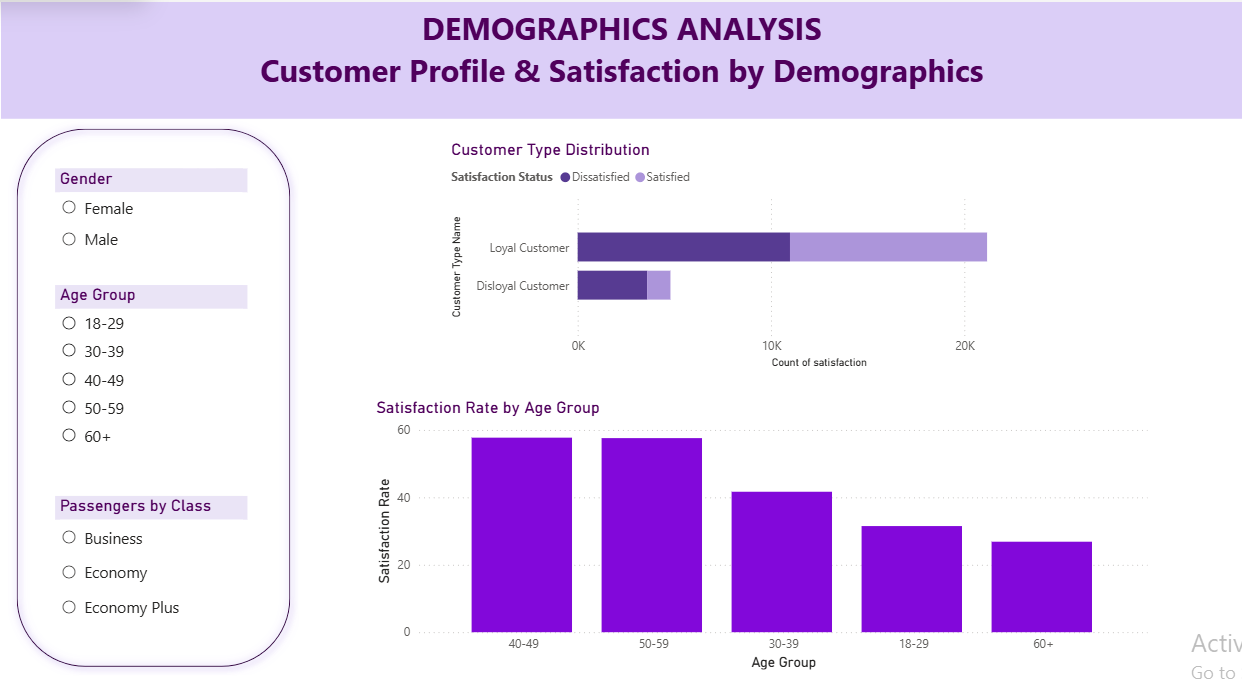

The dashboard page shown, as its layout file describes it:
{"tool":"powerbi","page":{"name":"Page 2","canvas":[1280,720],"ordinal":1},"visuals":[{"type":"shape","box":[6.5,121,300,572.6],"z":0},{"type":"clusteredColumnChart","fields":{"Category":["cleaned_airline_data.Age Group"],"Y":["cleaned_airline_data.Satisfaction Rate"]},"box":[382.3,408.1,804.8,285.5],"z":3000},{"type":"barChart","title":"Customer Type Distribution","fields":{"Category":["cleaned_airline_data.Customer Type Name"],"Series":["cleaned_airline_data.Satisfaction Status"],"Y":["CountNonNull(cleaned_airline_data.satisfaction)"]},"box":[459.7,141.9,648.4,240.3],"z":4000},{"type":"listSlicer","fields":{"Values":["cleaned_airline_data.Age Group"]},"box":[56.5,291.9,198.4,179],"z":5000},{"type":"listSlicer","title":"Gender","fields":{"Values":["cleaned_airline_data.Gender Name"]},"box":[56.5,171,198.4,95.2],"z":6000},{"type":"listSlicer","title":"Passengers by Class","fields":{"Values":["cleaned_airline_data.className"]},"box":[56.5,509.7,198.4,140.3],"z":7000},{"type":"textbox","box":[0,0,1279.7,120.3],"z":8000}]}

Visuals, with their boxes in screenshot pixels (x1, y1, x2, y2), scaled from the page's 1280x720 canvas onto the 1242x700 screenshot:
shape: (left=6, top=118, right=297, bottom=674)
clusteredColumnChart - cleaned_airline_data.Age Group x cleaned_airline_data.Satisfaction Rate: (left=371, top=397, right=1152, bottom=674)
"Customer Type Distribution" barChart: (left=446, top=138, right=1075, bottom=372)
listSlicer - cleaned_airline_data.Age Group: (left=55, top=284, right=247, bottom=458)
"Gender" listSlicer: (left=55, top=166, right=247, bottom=259)
"Passengers by Class" listSlicer: (left=55, top=496, right=247, bottom=632)
textbox: (left=0, top=0, right=1241, bottom=117)
